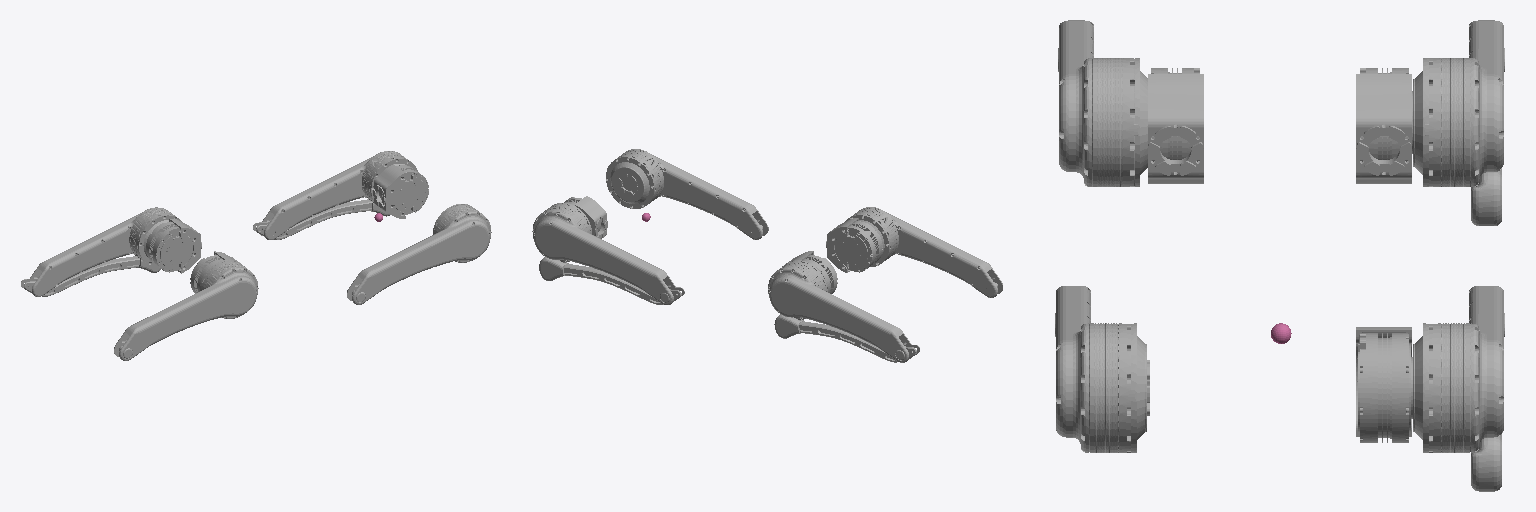
URDF robot description (urdf_assembly_v3):
<?xml version='1.0' encoding='utf-8'?>
<robot name="urdf_assembly_v3">
  <material name="silver">
    <color rgba="0.700 0.700 0.700 1.000" />
  </material>
  <!-- <link name="base"/> -->
  <!-- Fixed joint that rotates the whole robot 180° about X -->
  <link name="world"/>

  <link name="trunk">
    <inertial>
      <origin xyz="0.180036 -0.000024 -0.007962"/>
      <mass value="13.252419"/>
      <inertia ixx="0.11610000" ixy="-0.00006689" ixz="-0.00004903"
              iyy="0.26320000" iyz="0.00001886" izz="0.33710000"/>
    </inertial>
    <visual>
      <origin rpy="0 0 0" xyz="0 0 0" />
      <geometry>
        <mesh filename="meshes/trunk.stl" scale="0.001 0.001 0.001" />
      </geometry>
      <material name="silver" />
    </visual>
    <!-- <collision>
      <origin rpy="0 0 0" xyz="0 0 0" />
      <geometry>
        <mesh filename="meshes/trunk.stl" scale="0.001 0.001 0.001" />
      </geometry>
    </collision> -->
  </link>
  <link name="FL_hip">
    <inertial>
      <origin xyz="-0.056864 0.001156 0.001126"/>
      <mass value="1.008402"/>
      <inertia ixx="0.00123900" ixy="0.00001874" ixz="-0.00000002"
              iyy="0.00203800" iyz="0.00000005" izz="0.00147300"/>
    </inertial>
    <visual>
      <origin rpy="0 0 0" xyz="0.059 0.098894 0.00113" />
      <geometry>
        <mesh filename="meshes/FL_hip.stl" scale="0.001 0.001 0.001" />
      </geometry>
      <material name="silver" />
    </visual>
    <!-- <collision>
      <origin rpy="0 0 0" xyz="0.059 0.098894 0.00113" />
      <geometry>
        <mesh filename="meshes/FL_hip.stl" scale="0.001 0.001 0.001" />
      </geometry>
    </collision> -->
  </link>
  <link name="RL_hip">
    <inertial>
      <origin xyz="0.056564 0.001156 0.001134"/>
      <mass value="1.008402"/>
      <inertia ixx="0.00123900" ixy="-0.00001874" ixz="-0.00000002"
              iyy="0.00203800" iyz="-0.00000005" izz="0.00147300"/>
    </inertial>
    <visual>
      <origin rpy="0 0 0" xyz="-0.419 0.098894 0.00113" />
      <geometry>
        <mesh filename="meshes/RL_hip.stl" scale="0.001 0.001 0.001" />
      </geometry>
      <material name="silver" />
    </visual>
    <!-- <collision>
      <origin rpy="0 0 0" xyz="-0.419 0.098894 0.00113" />
      <geometry>
        <mesh filename="meshes/RL_hip.stl" scale="0.001 0.001 0.001" />
      </geometry>
    </collision> -->
  </link>
  <link name="RR_hip">
    <inertial>
      <origin xyz="0.056564 -0.003368 0.001133"/>
      <mass value="1.008392"/>
      <inertia ixx="0.00123900" ixy="0.00001874" ixz="-0.00000002"
              iyy="0.00203800" iyz="0.00000005" izz="0.00147300"/>
    </inertial>
    <visual>
      <origin rpy="0 0 0" xyz="-0.419 -0.101106 0.00113" />
      <geometry>
        <mesh filename="meshes/RR_hip.stl" scale="0.001 0.001 0.001" />
      </geometry>
      <material name="silver" />
    </visual>
    <!-- <collision>
      <origin rpy="0 0 0" xyz="-0.419 -0.101106 0.00113" />
      <geometry>
        <mesh filename="meshes/RR_hip.stl" scale="0.001 0.001 0.001" />
      </geometry>
    </collision> -->
  </link>
  <link name="FR_hip">
    <inertial>
      <origin xyz="-0.056864 -0.003368 0.001127"/>
      <mass value="1.008392"/>
      <inertia ixx="0.00123900" ixy="-0.00001874" ixz="-0.00000002"
              iyy="0.00203800" iyz="-0.00000005" izz="0.00147300"/>
    </inertial>
    <visual>
      <origin rpy="0 0 0" xyz="0.059 -0.101106 0.00113" />
      <geometry>
        <mesh filename="meshes/FR_hip.stl" scale="0.001 0.001 0.001" />
      </geometry>
      <material name="silver" />
    </visual>
    <!-- <collision>
      <origin rpy="0 0 0" xyz="0.059 -0.101106 0.00113" />
      <geometry>
        <mesh filename="meshes/FR_hip.stl" scale="0.001 0.001 0.001" />
      </geometry>
    </collision> -->
  </link>
  <link name="FR_thigh">
    <inertial>
      <origin xyz="0.041847 0.044995 -0.007447"/>
      <mass value="2.226976"/>
      <inertia ixx="0.00428900" ixy="-0.00242400" ixz="0.00381700"
              iyy="0.02280000" iyz="0.00050890" izz="0.02121000"/>
    </inertial>
    <visual>
      <origin rpy="0 0 0" xyz="0.121 -0.128506 0.00113" />
      <geometry>
        <mesh filename="meshes/FR_thigh.stl" scale="0.001 0.001 0.001" />
      </geometry>
      <material name="silver" />
    </visual>
    <!-- <collision>
      <origin rpy="0 0 0" xyz="0.121 -0.128506 0.00113" />
      <geometry>
        <mesh filename="meshes/FR_thigh.stl" scale="0.001 0.001 0.001" />
      </geometry>
    </collision> -->
  </link>
  <link name="RR_thigh">
    <inertial>
      <origin xyz="0.045547 0.047995 -0.007447"/>
      <mass value="2.226976"/>
      <inertia ixx="0.00428900" ixy="-0.00242400" ixz="0.00381700"
              iyy="0.02280000" iyz="0.00050890" izz="0.02121000"/>
    </inertial>
    <visual>
      <origin rpy="0 0 0" xyz="-0.481 -0.125506 0.00113" />
      <geometry>
        <mesh filename="meshes/RR_thigh.stl" scale="0.001 0.001 0.001" />
      </geometry>
      <material name="silver" />
    </visual>
    <!-- <collision>
      <origin rpy="0 0 0" xyz="-0.481 -0.125506 0.00113" />
      <geometry>
        <mesh filename="meshes/RR_thigh.stl" scale="0.001 0.001 0.001" />
      </geometry>
    </collision> -->
  </link>
  <link name="FL_thigh">
    <inertial>
      <origin xyz="0.041849 -0.047206 -0.007427"/>
      <mass value="2.226916"/>
      <inertia ixx="0.00424000" ixy="0.00242400" ixz="0.00381900"
              iyy="0.02273000" iyz="-0.00050870" izz="0.02120000"/>
    </inertial>
    <visual>
      <origin rpy="0 0 0" xyz="0.121 0.126294 0.00113" />
      <geometry>
        <mesh filename="meshes/FL_thigh.stl" scale="0.001 0.001 0.001" />
      </geometry>
      <material name="silver" />
    </visual>
    <!-- <collision>
      <origin rpy="0 0 0" xyz="0.121 0.126294 0.00113" />
      <geometry>
        <mesh filename="meshes/FL_thigh.stl" scale="0.001 0.001 0.001" />
      </geometry>
    </collision> -->
  </link>
  <link name="RL_thigh">
    <inertial>
      <origin xyz="0.045549 -0.047206 -0.007427"/>
      <mass value="2.226916"/>
      <inertia ixx="0.00424000" ixy="0.00242400" ixz="0.00381900"
              iyy="0.02273000" iyz="-0.00050870" izz="0.02120000"/>
    </inertial>
    <visual>
      <origin rpy="0 0 0" xyz="-0.481 0.126294 0.00113" />
      <geometry>
        <mesh filename="meshes/RL_thigh.stl" scale="0.001 0.001 0.001" />
      </geometry>
      <material name="silver" />
    </visual>
    <!-- <collision>
      <origin rpy="0 0 0" xyz="-0.481 0.126294 0.00113" />
      <geometry>
        <mesh filename="meshes/RL_thigh.stl" scale="0.001 0.001 0.001" />
      </geometry>
    </collision> -->
  </link>
  <link name="RR_calf">
    <inertial>
      <origin xyz="-0.152659 0.011317 -0.003568"/>
      <mass value="0.403541"/>
      <inertia ixx="0.00006653" ixy="0.00000815" ixz="0.00014770"
              iyy="0.00538400" iyz="-0.00000100" izz="0.00534900"/>
    </inertial>
    <visual>
      <origin rpy="0 0 0" xyz="-0.170833 0.207494 0.070655" />
      <geometry>
        <mesh filename="meshes/RR_calf.stl" scale="0.001 0.001 0.001" />
      </geometry>
      <material name="silver" />
    </visual>
    <collision>
      <origin xyz="-0.31 0.01 -0.02" rpy="0 0 0"/>
      <geometry>
        <sphere radius="0.015"/>
      </geometry>
    </collision>
  </link>
  <link name="FR_calf">
    <inertial>
      <origin xyz="-0.156359 0.008317 -0.003568"/>
      <mass value="0.403541"/>
      <inertia ixx="0.00006653" ixy="0.00000815" ixz="0.00014770"
              iyy="0.00538400" iyz="-0.00000100" izz="0.00534900"/>
    </inertial>
    <visual>
      <origin rpy="0 0 0" xyz="-0.772833 0.207494 0.070655" />
      <geometry>
        <mesh filename="meshes/FR_calf.stl" scale="0.001 0.001 0.001" />
      </geometry>
      <material name="silver" />
    </visual>
    <collision>
      <origin xyz="-0.31 0.01 -0.02" rpy="0 0 0"/>
      <geometry>
        <sphere radius="0.015"/>
      </geometry>
    </collision>
  </link>
  <link name="RL_calf">
    <inertial>
      <origin xyz="-0.152659 0.009471 -0.003568"/>
      <mass value="0.403540"/>
      <inertia ixx="0.00006655" ixy="-0.00000815" ixz="0.00014770"
              iyy="0.00538400" iyz="0.00000100" izz="0.00534900"/>
    </inertial>
    <visual>
      <origin rpy="0 0 0" xyz="-0.772833 0.207494 0.070655" />
      <geometry>
        <mesh filename="meshes/RL_calf.stl" scale="0.001 0.001 0.001" />
      </geometry>
      <material name="silver" />
    </visual>
    <collision>
      <origin xyz="-0.31 0.01 -0.02" rpy="0 0 0"/>
      <geometry>
        <sphere radius="0.015"/>
      </geometry>
    </collision>
  </link>
  <link name="FL_calf">
    <inertial>
      <origin xyz="-0.156359 0.009471 -0.003568"/>
      <mass value="0.403540"/>
      <inertia ixx="0.00006655" ixy="-0.00000815" ixz="0.00014770"
              iyy="0.00538400" iyz="0.00000100" izz="0.00534900"/>
    </inertial>
    <visual>
      <origin rpy="0 0 0" xyz="-0.170833 0.207494 0.070655" />
      <geometry>
        <mesh filename="meshes/FL_calf.stl" scale="0.001 0.001 0.001" />
      </geometry>
      <material name="silver" />
    </visual>
    <collision>
      <origin xyz="-0.31 0.01 -0.02" rpy="0 0 0"/>
      <geometry>
        <sphere radius="0.015"/>
      </geometry>
    </collision>
  </link>

  <!-- <joint name="floating_trunk" type="floating">
    <parent link="base"/>
    <child link="trunk"/>
    <origin xyz="0 0 0.0" rpy="0 0 0"/>
  </joint> -->
  <joint name="world_to_base_rotX180" type="fixed">
    <parent link="world"/>
    <child  link="trunk"/>  <!-- your original root/base link -->
    <origin xyz="0 0 0" rpy="0 0 3.141592653589793"/>
  </joint>
  <joint name="FL_hip_joint" type="revolute">
    <origin rpy="0 0 0" xyz="-0.059 -0.098894 -0.00113" />
    <parent link="trunk" />
    <child link="FL_hip" />
    <axis xyz="-1.0 0.0 0.0" />
    <limit lower="-0.785" upper="0.785" />
  </joint>
  <joint name="RL_hip_joint" type="revolute">
    <origin rpy="0 0 0" xyz="0.419 -0.098894 -0.00113" />
    <parent link="trunk" />
    <child link="RL_hip" />
    <axis xyz="1.0 -0.0 -0.0" />
    <limit lower="-0.785" upper="0.785" />
  </joint>
  <joint name="RR_hip_joint" type="revolute">
    <origin rpy="0 0 0" xyz="0.419 0.101106 -0.00113" />
    <parent link="trunk" />
    <child link="RR_hip" />
    <axis xyz="1.0 -0.0 0.0" />
    <limit lower="-0.785" upper="0.785" />
  </joint>
  <joint name="FR_hip_joint" type="revolute">
    <origin rpy="0 0 0" xyz="-0.059 0.101106 -0.00113" />
    <parent link="trunk" />
    <child link="FR_hip" />
    <axis xyz="-1.0 0.0 -0.0" />
    <limit lower="-0.785" upper="0.785" />
  </joint>
  <joint name="FR_thigh_joint" type="revolute">
    <origin rpy="0 0 0" xyz="-0.062 0.0274 0.0" />
    <parent link="FR_hip" />
    <child link="FR_thigh" />
    <axis xyz="0.0 1.0 -0.0" />
    <limit lower="-1.5708" upper="1.5708" />
  </joint>
  <joint name="RR_thigh_joint" type="revolute">
    <origin rpy="0 0 0" xyz="0.062 0.0244 0.0" />
    <parent link="RR_hip" />
    <child link="RR_thigh" />
    <axis xyz="-0.0 1.0 0.0" />
    <limit lower="-1.5708" upper="1.5708" />
  </joint>
  <joint name="FL_thigh_joint" type="revolute">
    <origin rpy="0 0 0" xyz="-0.062 -0.0274 0.0" />
    <parent link="FL_hip" />
    <child link="FL_thigh" />
    <axis xyz="0.0 -1.0 -0.0" />
    <limit lower="-1.5708" upper="1.5708" />
  </joint>
  <joint name="RL_thigh_joint" type="revolute">
    <origin rpy="0 0 0" xyz="0.062 -0.0274 0.0" />
    <parent link="RL_hip" />
    <child link="RL_thigh" />
    <axis xyz="-0.0 -1.0 -0.0" />
    <limit lower="-1.5708" upper="1.5708" />
  </joint>
  <joint name="FL_calf_joint" type="revolute">
    <origin rpy="0 0 0" xyz="0.291833 -0.0812 -0.069525" />
    <parent link="FL_thigh" />
    <child link="FL_calf" />
    <axis xyz="-0.0 -1.0 0.0" />
    <limit lower="0.0" upper="2.30" />
  </joint>
  <joint name="RL_calf_joint" type="revolute">
    <origin rpy="0 0 0" xyz="0.291833 -0.0812 -0.069525" />
    <parent link="RL_thigh" />
    <child link="RL_calf" />
    <axis xyz="-0.0 -1.0 0.0" />
    <limit lower="0.0" upper="2.30" />
  </joint>
  <joint name="RR_calf_joint" type="revolute">
    <origin rpy="0 0 0" xyz="0.291833 0.0612 -0.069525" />
    <parent link="RR_thigh" />
    <child link="RR_calf" />
    <axis xyz="0.0 1.0 0.0" />
    <limit lower="-2.30" upper="0.0" />
  </joint>
  <joint name="FR_calf_joint" type="revolute">
    <origin rpy="0 0 0" xyz="0.291833 0.0612 -0.069525" />
    <parent link="FR_thigh" />
    <child link="FR_calf" />
    <axis xyz="0.0 1.0 -0.0" />
    <limit lower="-2.30" upper="0.0" />
  </joint>


  <link name="imu_link">
  <visual>
    <origin xyz="0 0 0"/>
    <geometry>
      <sphere radius="0.01"/>
    </geometry>
    <material name="gray"/>
  </visual>
</link>

<joint name="imu_joint" type="fixed">
  <parent link="trunk"/>
  <child link="imu_link"/>
  <origin xyz="0 0 0" rpy="0 0 0"/>
</joint>
</robot>

--- Render facts (derived) ---
Views: 3 orthographic renders of the robot side by side, from view 1: azimuth 30°, elevation 25°; view 2: azimuth 150°, elevation 25°; view 3: azimuth 270°, elevation 25°.
Robot: urdf_assembly_v3 — 15 links, 14 joints (12 revolute, 2 fixed); root link world; default pose: all joints at 0.
Visible links, largest first — view 1: FR_thigh, RR_thigh, RL_thigh, FL_thigh, RL_hip, FL_hip, RL_calf, FL_calf, RR_hip; view 2: FR_thigh, FL_thigh, RL_thigh, RR_thigh, RR_hip, FL_calf, RL_calf, FL_hip, RL_hip; view 3: FR_thigh, FL_thigh, RL_thigh, RR_thigh, RL_hip, FL_hip, RR_hip, FL_calf, RL_calf.
Link boxes in pixels (x1,y1,x2,y2): FR_thigh: (347, 204, 491, 304); RR_thigh: (114, 260, 258, 360); RL_thigh: (28, 207, 181, 296); FL_thigh: (260, 151, 417, 239); RL_hip: (146, 219, 201, 273); FL_hip: (373, 164, 428, 218); RL_calf: (21, 255, 160, 296); FL_calf: (253, 199, 389, 239); RR_hip: (190, 251, 244, 293); FR_thigh: (606, 149, 768, 239); FL_thigh: (532, 203, 675, 304); RL_thigh: (768, 260, 911, 362); RR_thigh: (845, 207, 1002, 297); RR_hip: (826, 218, 882, 272); FL_calf: (539, 257, 684, 304); RL_calf: (774, 314, 919, 362); FL_hip: (564, 196, 607, 238); RL_hip: (782, 251, 837, 293); FR_thigh: (1055, 286, 1149, 452); FL_thigh: (1413, 286, 1504, 452); RL_thigh: (1413, 20, 1504, 186); RR_thigh: (1058, 20, 1147, 186); RL_hip: (1356, 68, 1412, 183); FL_hip: (1356, 327, 1412, 442); RR_hip: (1148, 68, 1203, 183); FL_calf: (1471, 434, 1501, 491); RL_calf: (1471, 169, 1501, 225).
Size in the robot's own frame: 0.9935 by 0.4318 by 0.1644 metres.
9 mesh visuals loaded from 13 distinct referenced files (9 binary STL); not drawn: 4 (reference not matched to a file when rendering).
